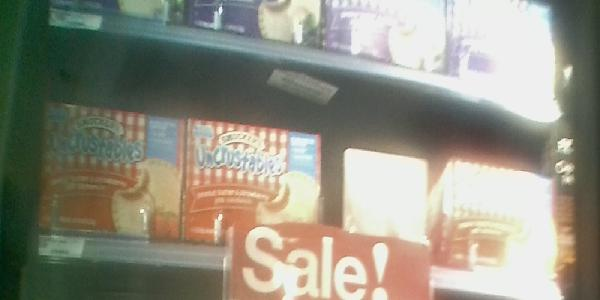icecream: (32, 98, 178, 250), (186, 116, 322, 258), (446, 155, 555, 300)
